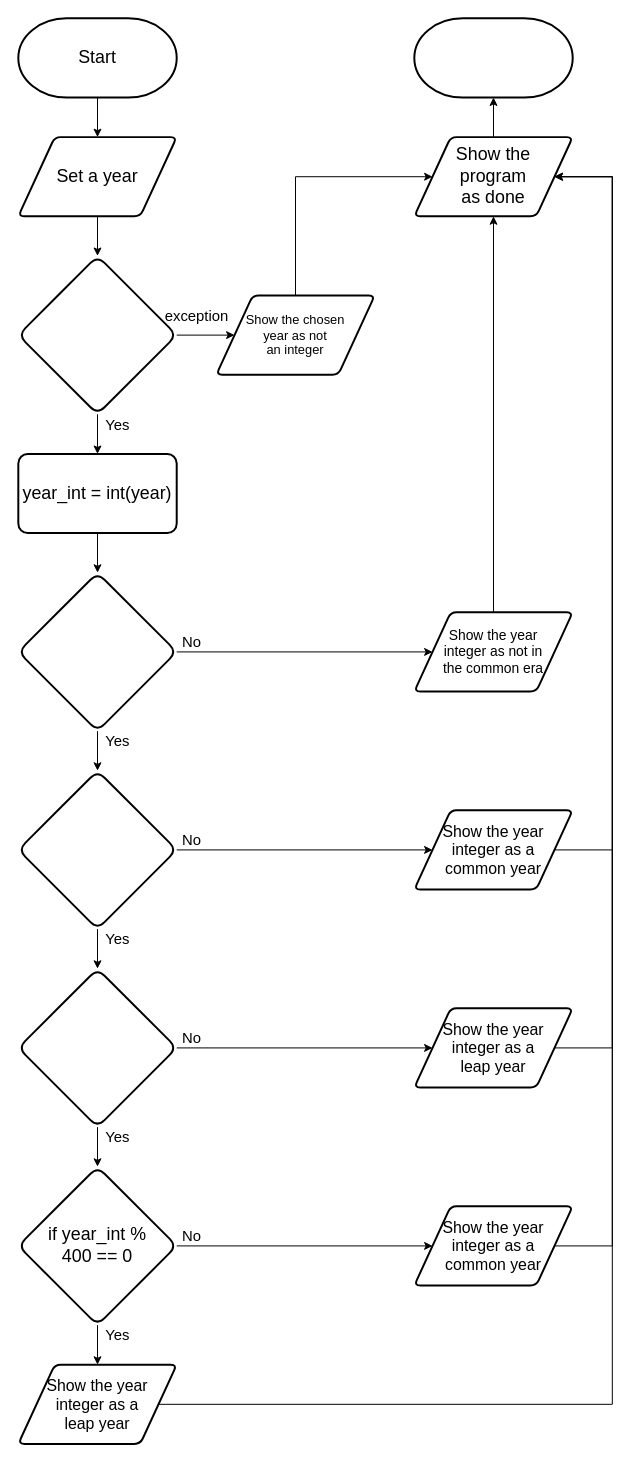
Some shapes in this 638 by 1461 pixel diagram are drawn without their labels. Here are the shapes that lost their labels. From the top down, the centre of each, then its label:
At pixel 493 57: "Stop".
At pixel 97 334: "try".
At pixel 97 651: "if year_int < 0".
At pixel 97 849: "if year_int % 4 == 0".
At pixel 97 1047: "if year_int % 100 == 0".
